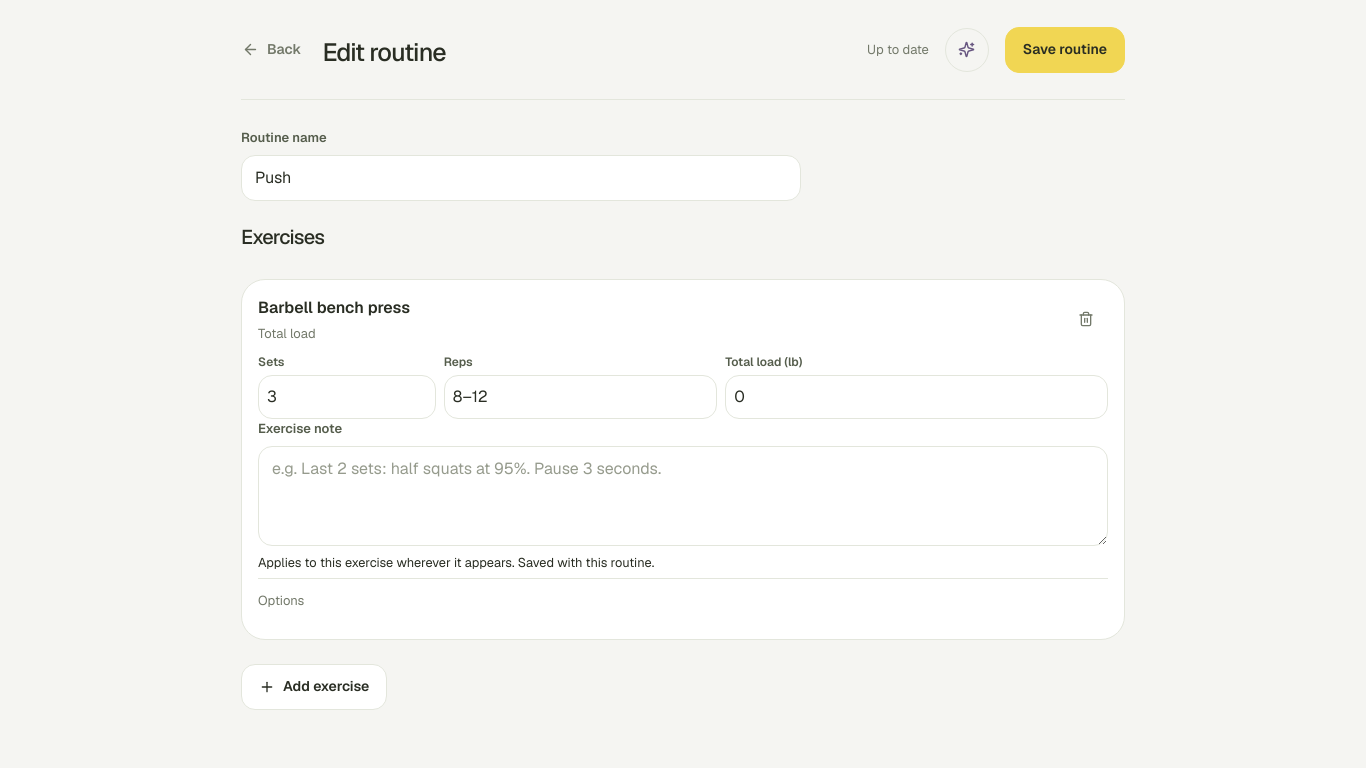
Scenario: RoutineEditor removal review › confirms removal into the draft only and blocks saving an empty routine
Click the button named "Remove Barbell bench press".
click(1086, 319)  # box [1064, 297, 1108, 341]
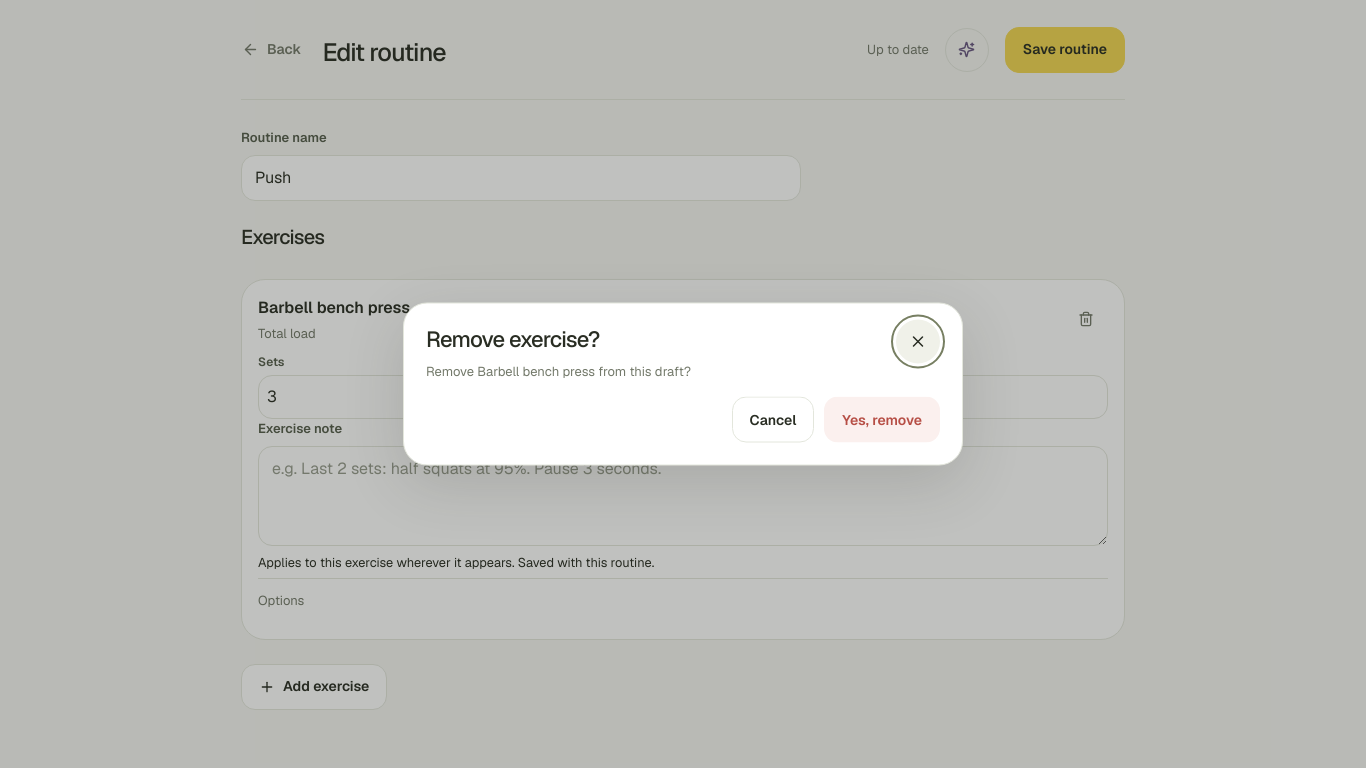
Click the button "Yes, remove".
click(882, 420)  # box [824, 396, 940, 442]
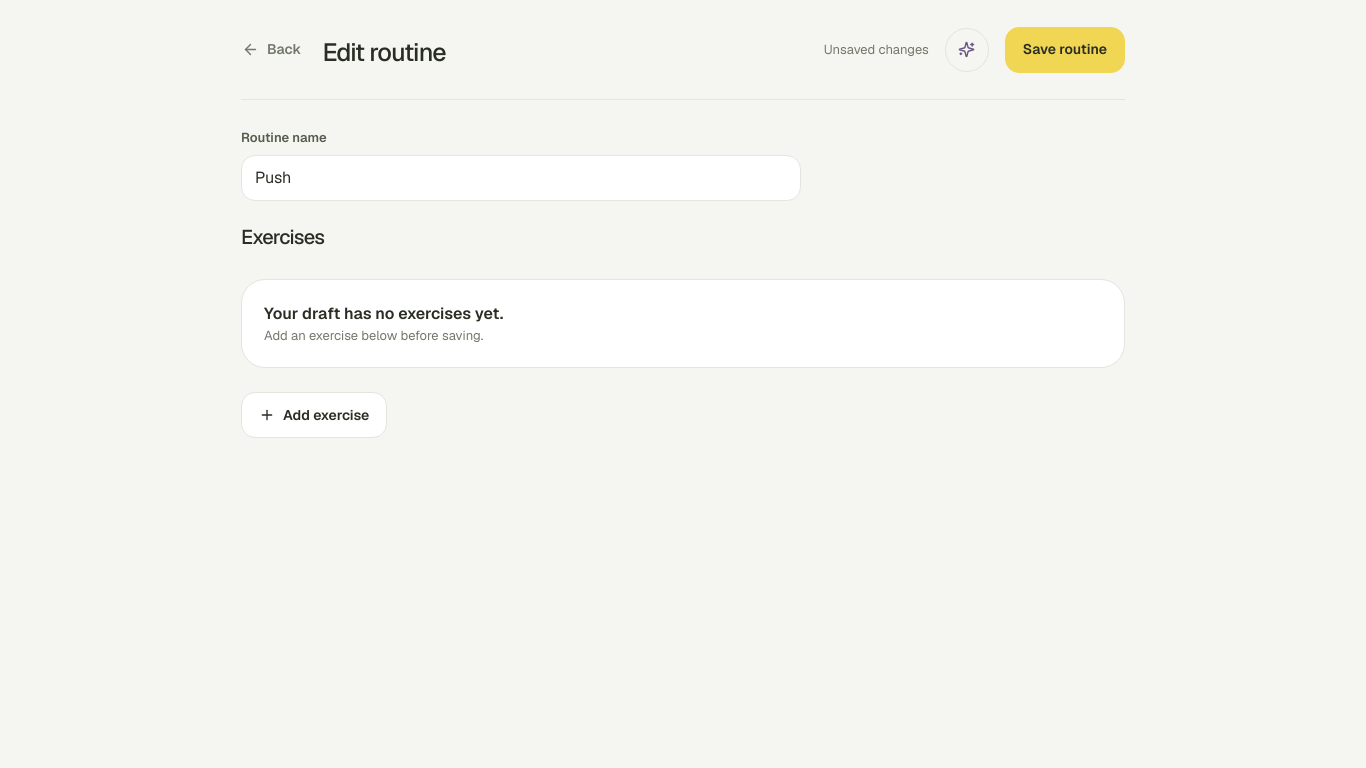
Expected: the text "Your draft has no exercises yet." is shown, [264, 302, 503, 324]
Click the button "Save routine".
click(1065, 50)  # box [1005, 26, 1125, 72]
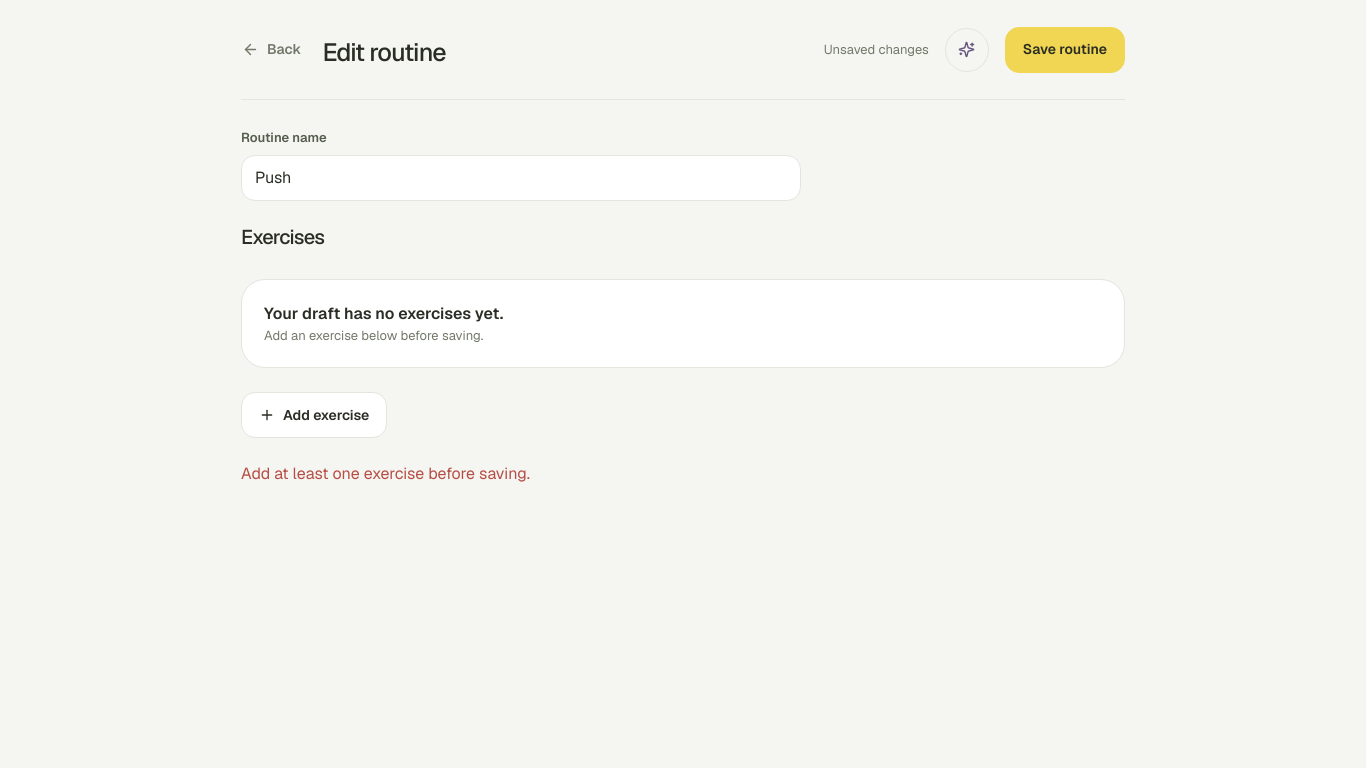
Expected: the message shows "at least one exercise", [241, 463, 530, 484]
